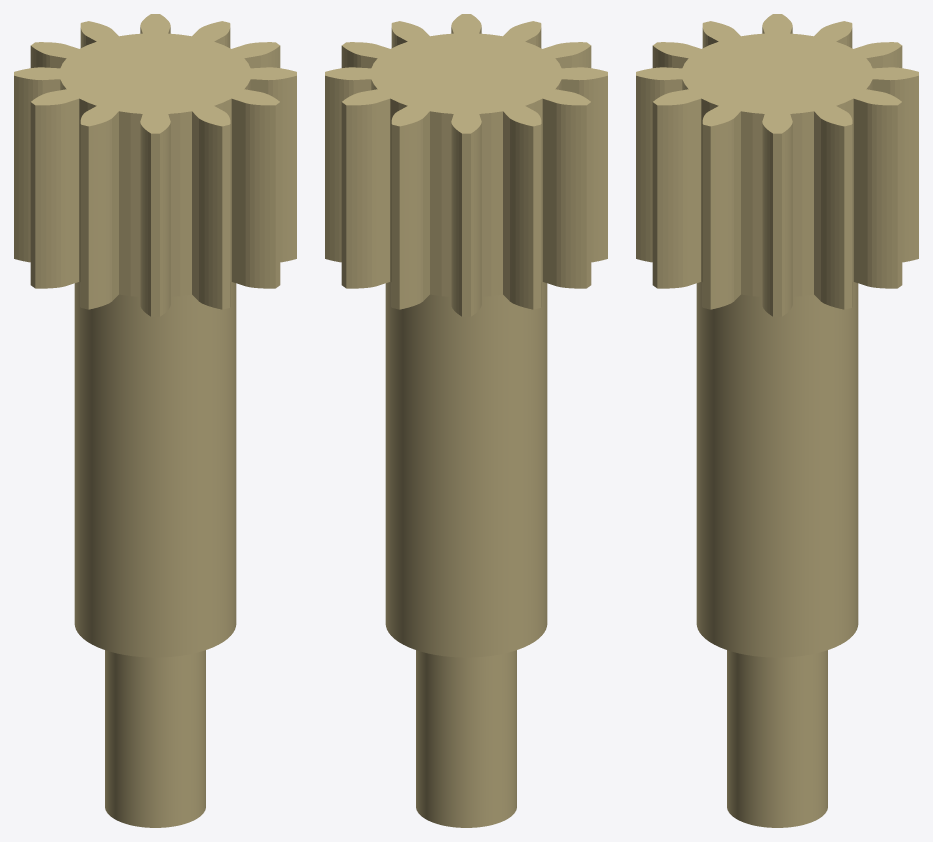
Rendered from step_05.glb.
3 views of the same model, side by side, from view 1: azimuth 30°, elevation 25°; view 2: azimuth 150°, elevation 25°; view 3: azimuth 270°, elevation 25° (orthographic).
Visible parts, largest first — view 1: part__sun gear; view 2: part__sun gear; view 3: part__sun gear.
Part boxes in pixels (<box>): part__sun gear: <box>14,14,296,827</box>; part__sun gear: <box>325,14,607,827</box>; part__sun gear: <box>636,14,918,827</box>.
Bounding box in the file's own units: 13.99 × 40 × 13.99.
